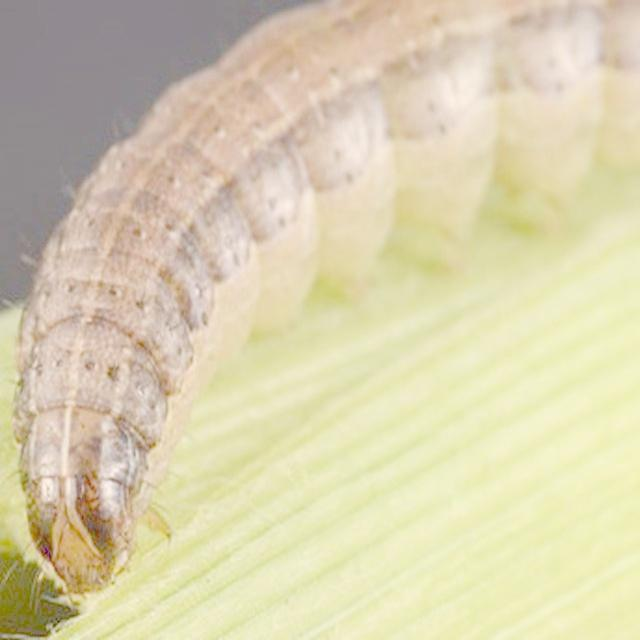Plaga: (1, 1, 640, 608)
